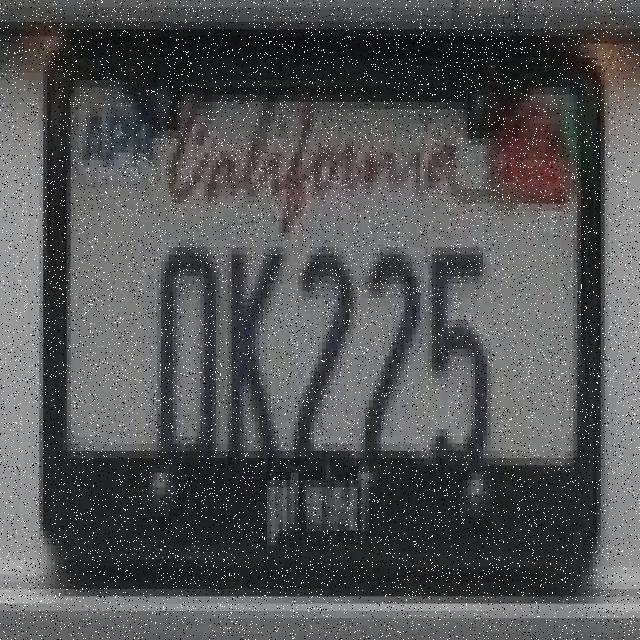licenseplate: (29, 8, 604, 600)
